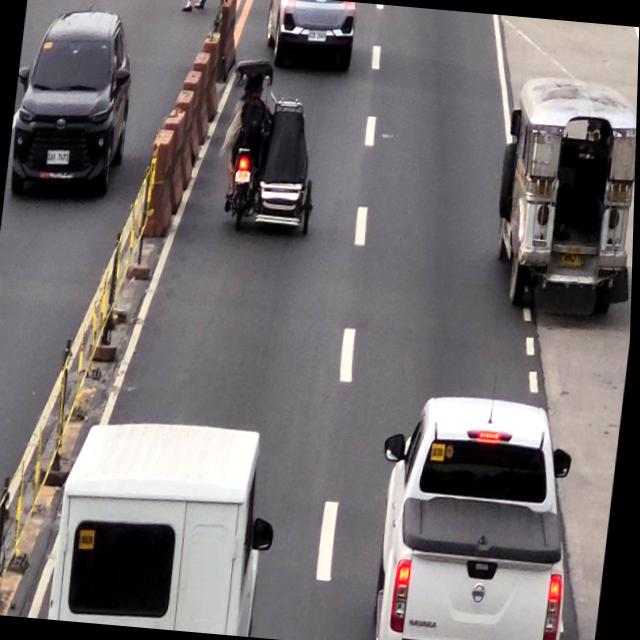Car: (371, 390, 595, 640), (52, 423, 278, 637)
Jeep: (496, 77, 638, 311)
Tricycle: (224, 56, 322, 225)
